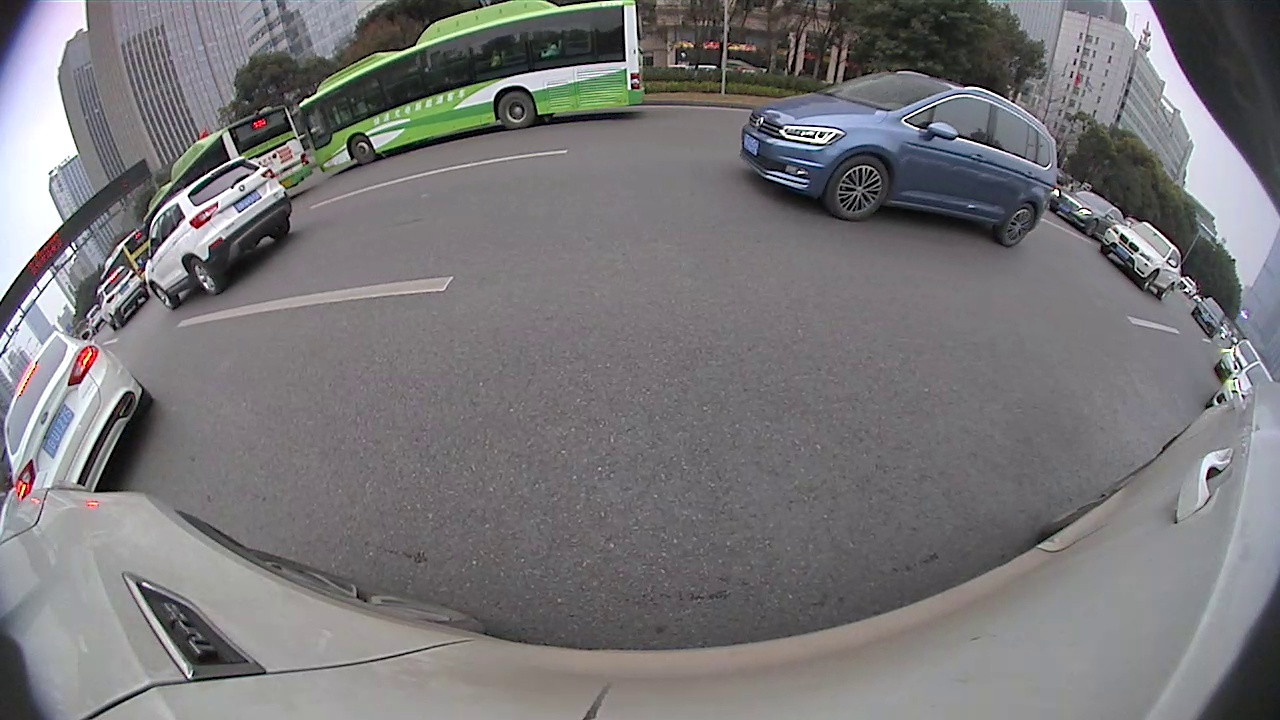bus: (294, 4, 648, 179)
car: (736, 68, 1060, 254), (5, 326, 154, 500), (140, 152, 294, 313), (1100, 219, 1184, 299), (1050, 188, 1127, 240)
front: (825, 153, 892, 219), (348, 132, 377, 166), (151, 280, 176, 312)
rear: (998, 199, 1038, 250), (496, 88, 538, 128), (188, 254, 220, 298)
